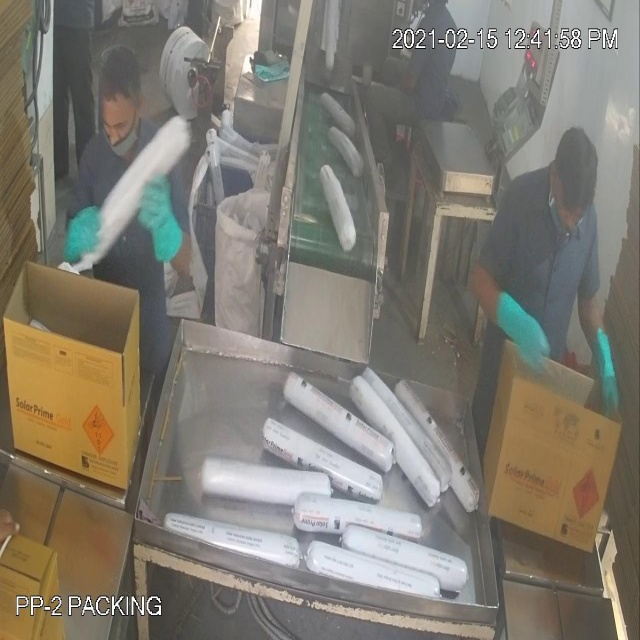Guantes: (487, 276, 558, 386), (138, 171, 190, 287), (43, 187, 107, 276), (591, 326, 620, 420)
